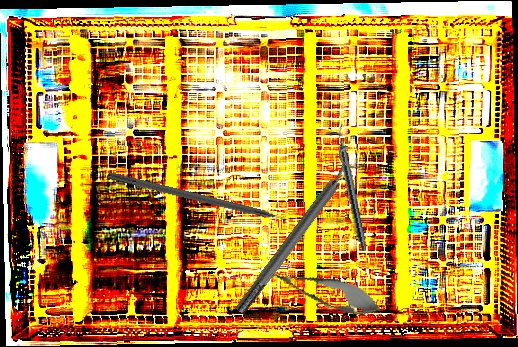Fixation Ring: (225, 143, 370, 321)
Handpiece: (332, 123, 371, 252)
Hook Surgical: (106, 171, 298, 229)
Micro Scissor: (255, 255, 387, 325)
